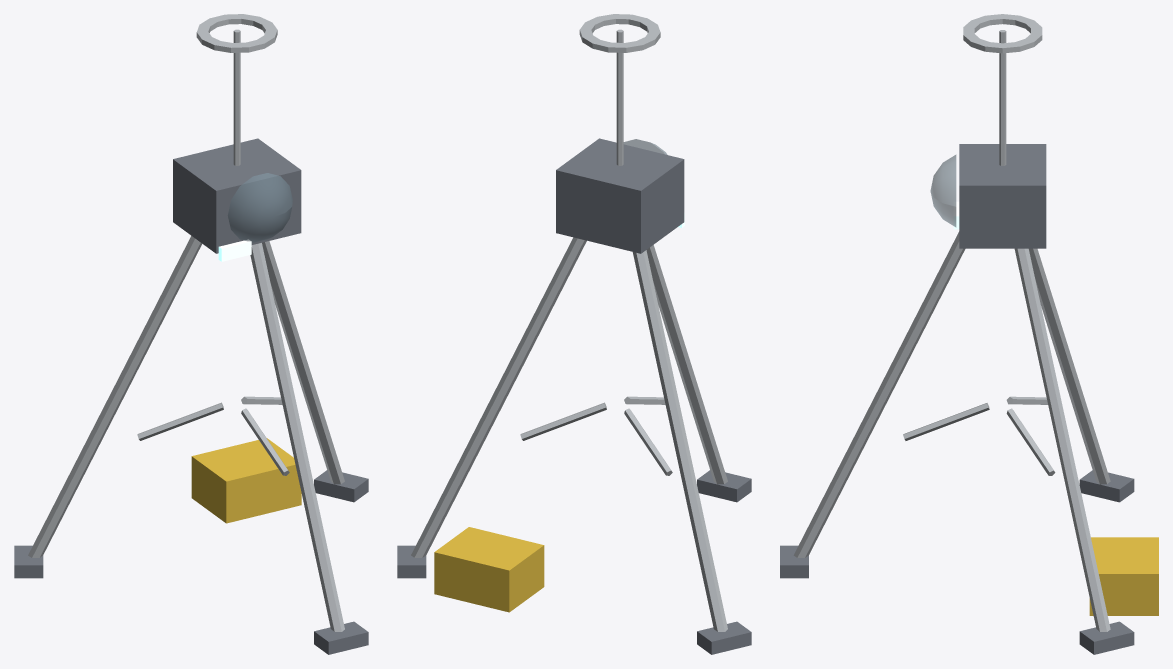
File: ufo-crash-site-and-recovery-facility-sensor-tripod-007732d0__17345.glb
3 renders of one model, left to right at view 1: azimuth 30°, elevation 25°; view 2: azimuth 150°, elevation 25°; view 3: azimuth 270°, elevation 25°, orthographic.
Parts seen in each view (by area): view 1: sensor-tripod; view 2: sensor-tripod; view 3: sensor-tripod.
Part boxes in pixels (x1,y1,x2,y2): sensor-tripod: (14, 14, 368, 654); sensor-tripod: (397, 14, 751, 654); sensor-tripod: (780, 14, 1158, 654).
Bounding box in the file's own units: 1.41 × 2.06 × 1.31.
